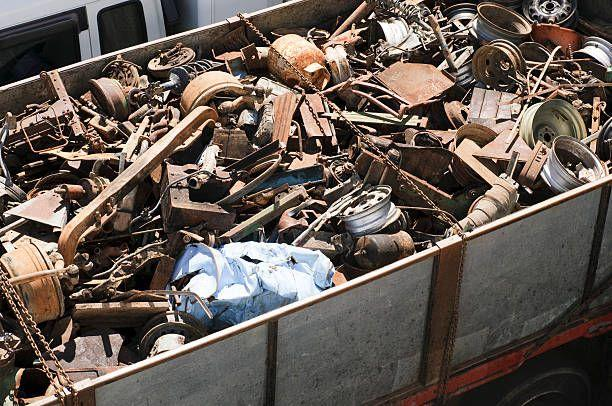metal: (54, 104, 221, 266), (165, 240, 349, 317), (158, 161, 237, 234), (1, 237, 68, 320), (372, 57, 459, 107), (136, 308, 208, 365), (546, 131, 604, 197), (519, 97, 587, 149), (336, 184, 402, 236), (271, 36, 332, 89), (470, 1, 534, 50), (470, 39, 527, 91), (391, 142, 456, 184), (181, 72, 245, 114), (354, 230, 414, 267), (298, 91, 337, 142), (522, 0, 579, 28), (573, 33, 612, 72), (280, 202, 317, 243)
